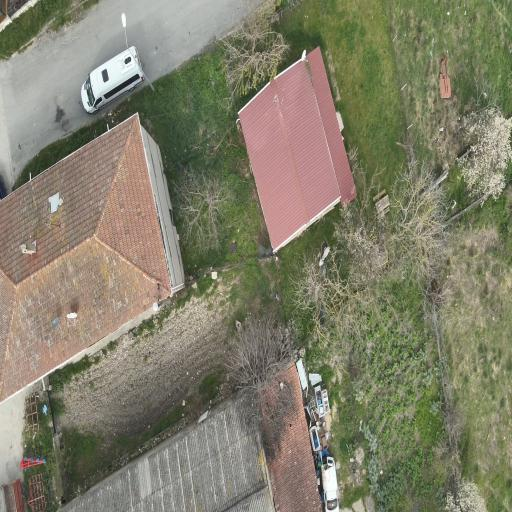bus: (81, 46, 144, 114)
car: (321, 457, 339, 511)
